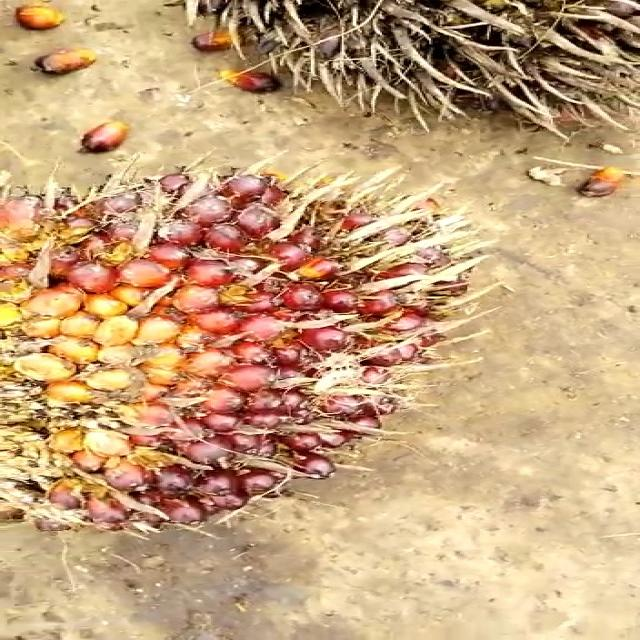palm oil: (0, 180, 476, 538)
